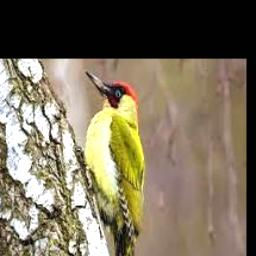Woodpecker: (74, 71, 146, 256)
